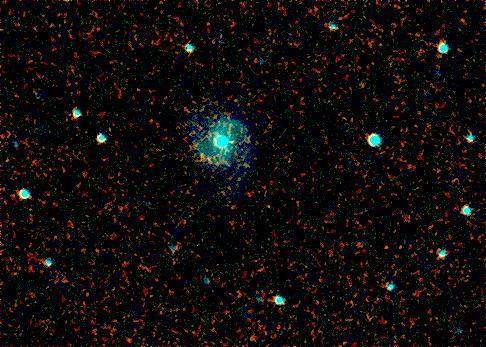star: (215, 127, 245, 157)
